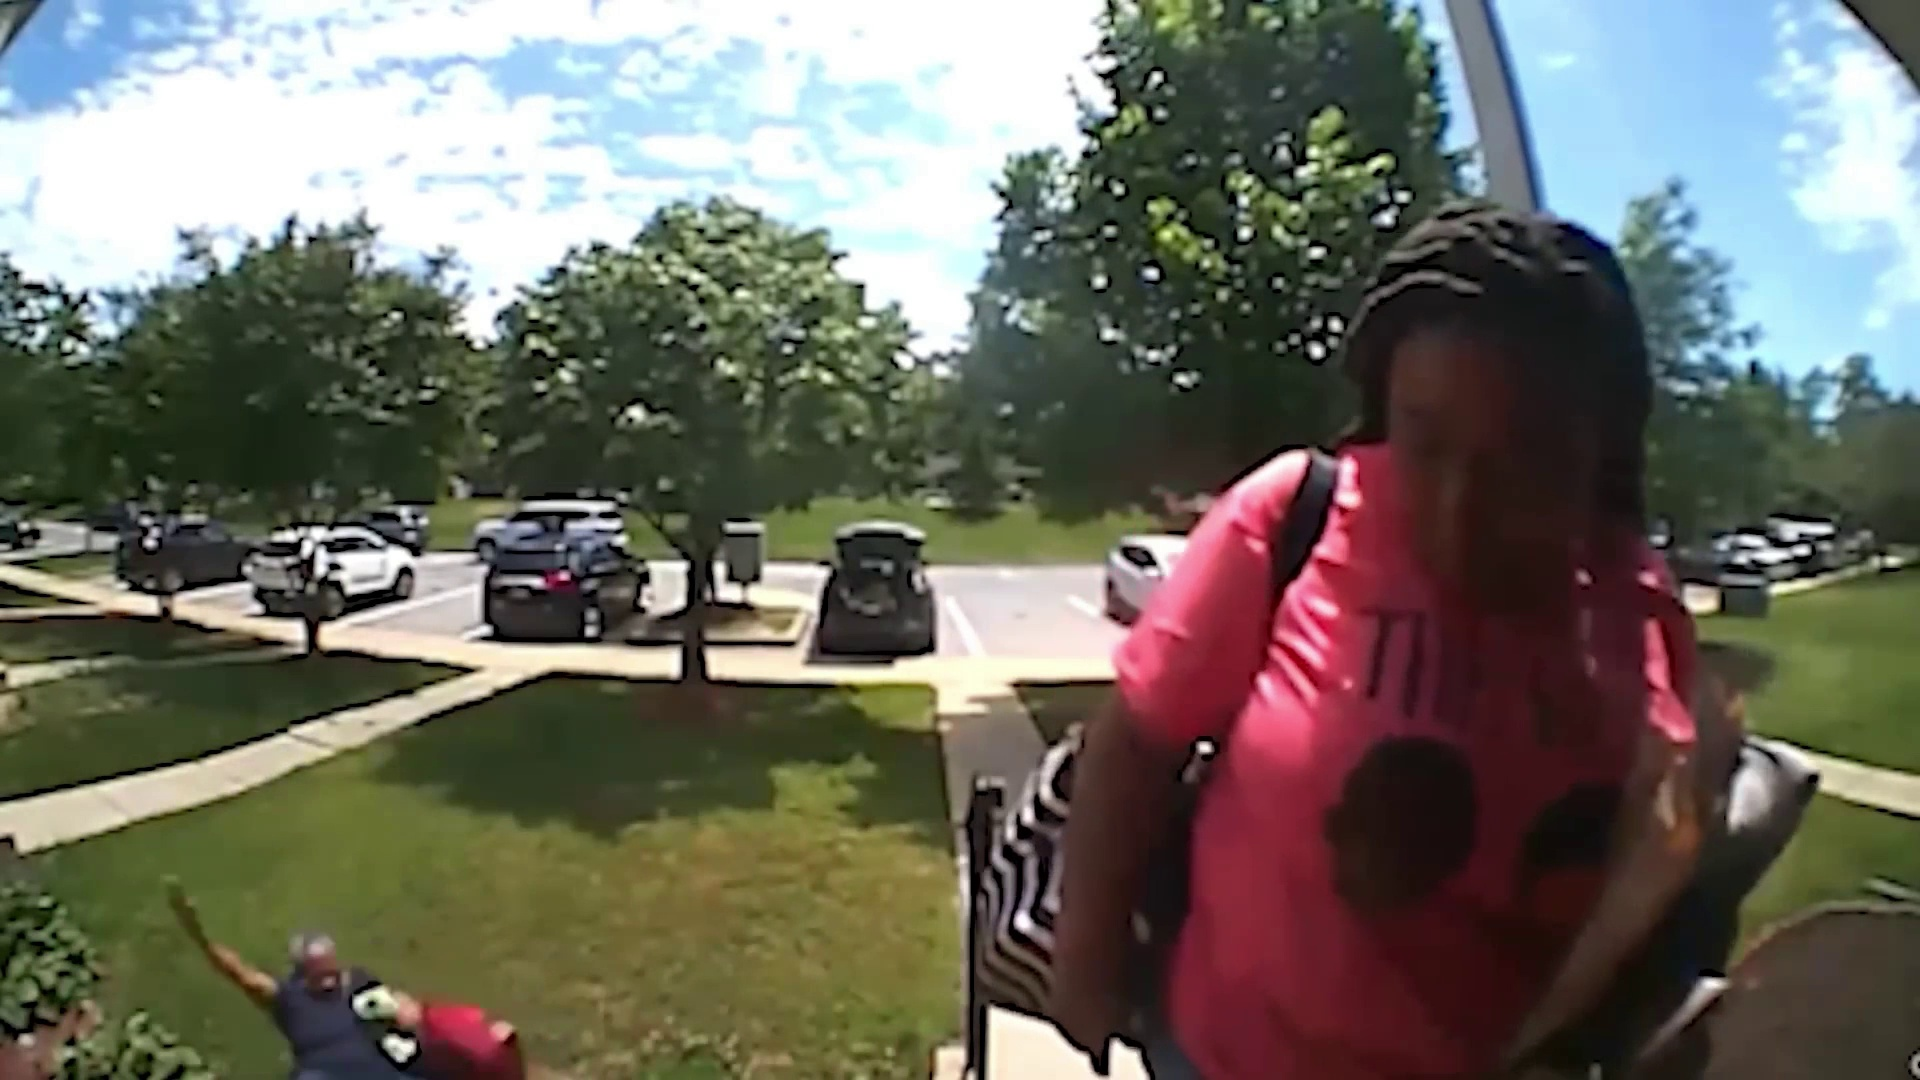fall: (140, 855, 625, 1080)
